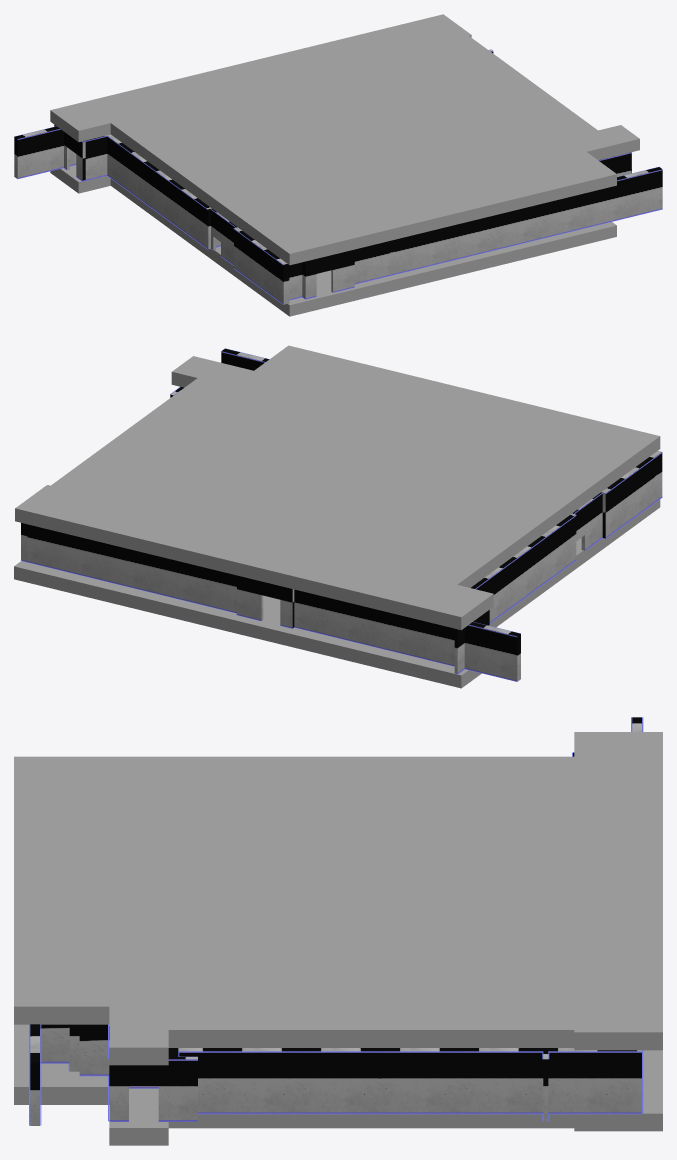
File: SM_WorkshopRoom.fbx
The picture shows the model from 3 angles, top to bottom: view 1: azimuth 30°, elevation 25°; view 2: azimuth 150°, elevation 25°; view 3: azimuth 270°, elevation 25°; orthographic projection. The views are drawn at different scales.
Parts seen in each view (by area): view 1: WorkshopRoof3, WorkshopRoof2, SM_Wall_01a48, Floor25, WorkshopRoof1, SM_Wall_01a104, SM_Wall_01a105, SM_Wall_01a82, SM_SingleDoor_01a3, SM_Wall_01a85, SM_DoubleDoor_01a12, Floor24 (+3 smaller); view 2: WorkshopRoof3, WorkshopRoof2, Floor24, SM_Wall_01a82, SM_Wall_01a81, WorkshopRoof1, SM_Wall_01a104, SM_Wall_01a105, SM_SingleDoor_01a5, Floor25, SM_DoubleDoor_01a12, SM_Wall_01a48 (+1 smaller); view 3: WorkshopRoof3, SM_Wall_01a87, WorkshopRoof2, WorkshopRoof1, Floor26, SM_SingleDoor_01a8, Floor25, Floor24, SM_Wall_01a132, SM_Wall_01a48, SM_Wall_01a130.
Boxes of the visible parts, x1,y1,x2,y2 form: WorkshopRoof3: [110, 43, 616, 265]; WorkshopRoof2: [50, 14, 471, 142]; SM_Wall_01a48: [354, 167, 662, 284]; Floor25: [110, 179, 616, 316]; WorkshopRoof1: [438, 35, 639, 160]; SM_Wall_01a104: [107, 135, 211, 249]; SM_Wall_01a105: [233, 227, 289, 304]; SM_Wall_01a82: [14, 126, 76, 178]; SM_SingleDoor_01a3: [305, 249, 354, 299]; SM_Wall_01a85: [79, 134, 110, 181]; SM_DoubleDoor_01a12: [210, 208, 237, 265]; Floor24: [50, 165, 110, 193]; WorkshopRoof3: [86, 345, 660, 587]; WorkshopRoof2: [15, 485, 493, 630]; Floor24: [14, 561, 481, 688]; SM_Wall_01a82: [294, 589, 520, 681]; SM_Wall_01a81: [21, 524, 236, 613]; WorkshopRoof1: [51, 356, 253, 493]; SM_Wall_01a104: [471, 513, 576, 623]; SM_Wall_01a105: [601, 451, 662, 538]; SM_SingleDoor_01a5: [236, 575, 294, 628]; Floor25: [265, 499, 660, 627]; SM_DoubleDoor_01a12: [572, 492, 602, 550]; SM_Wall_01a48: [221, 348, 269, 370]; WorkshopRoof3: [14, 756, 574, 1024]; SM_Wall_01a87: [178, 1048, 641, 1114]; WorkshopRoof2: [574, 732, 662, 1050]; WorkshopRoof1: [109, 1006, 574, 1065]; Floor26: [109, 1088, 574, 1145]; SM_SingleDoor_01a8: [109, 1056, 197, 1121]; Floor25: [14, 1024, 109, 1104]; Floor24: [574, 1050, 662, 1131]; SM_Wall_01a132: [79, 1024, 109, 1076]; SM_Wall_01a48: [29, 1024, 41, 1125]; SM_Wall_01a130: [40, 1024, 69, 1063].
Size of the model in its own units: 4174 by 549 by 3288.
